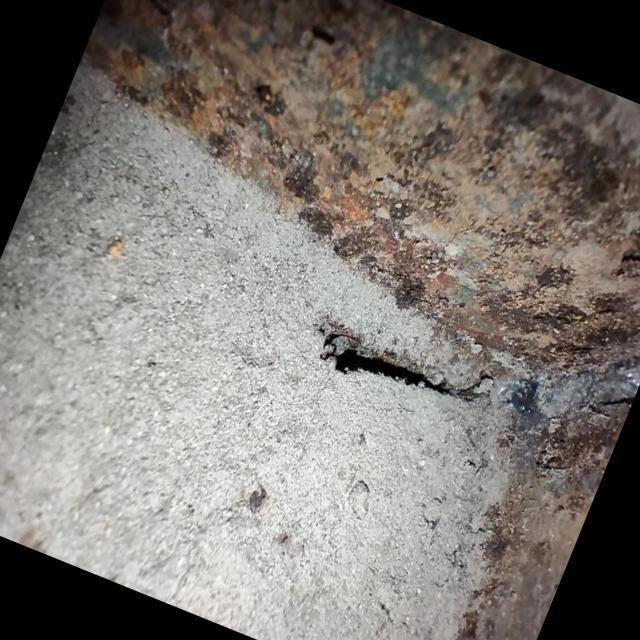defect: (317, 327, 498, 405)
